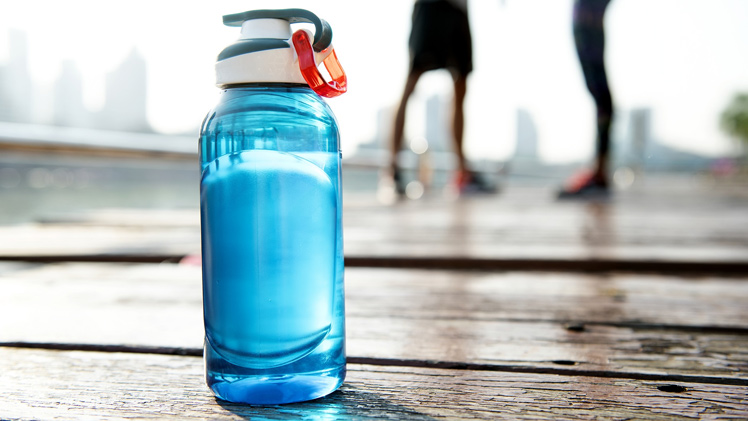bottle: (198, 3, 359, 410)
